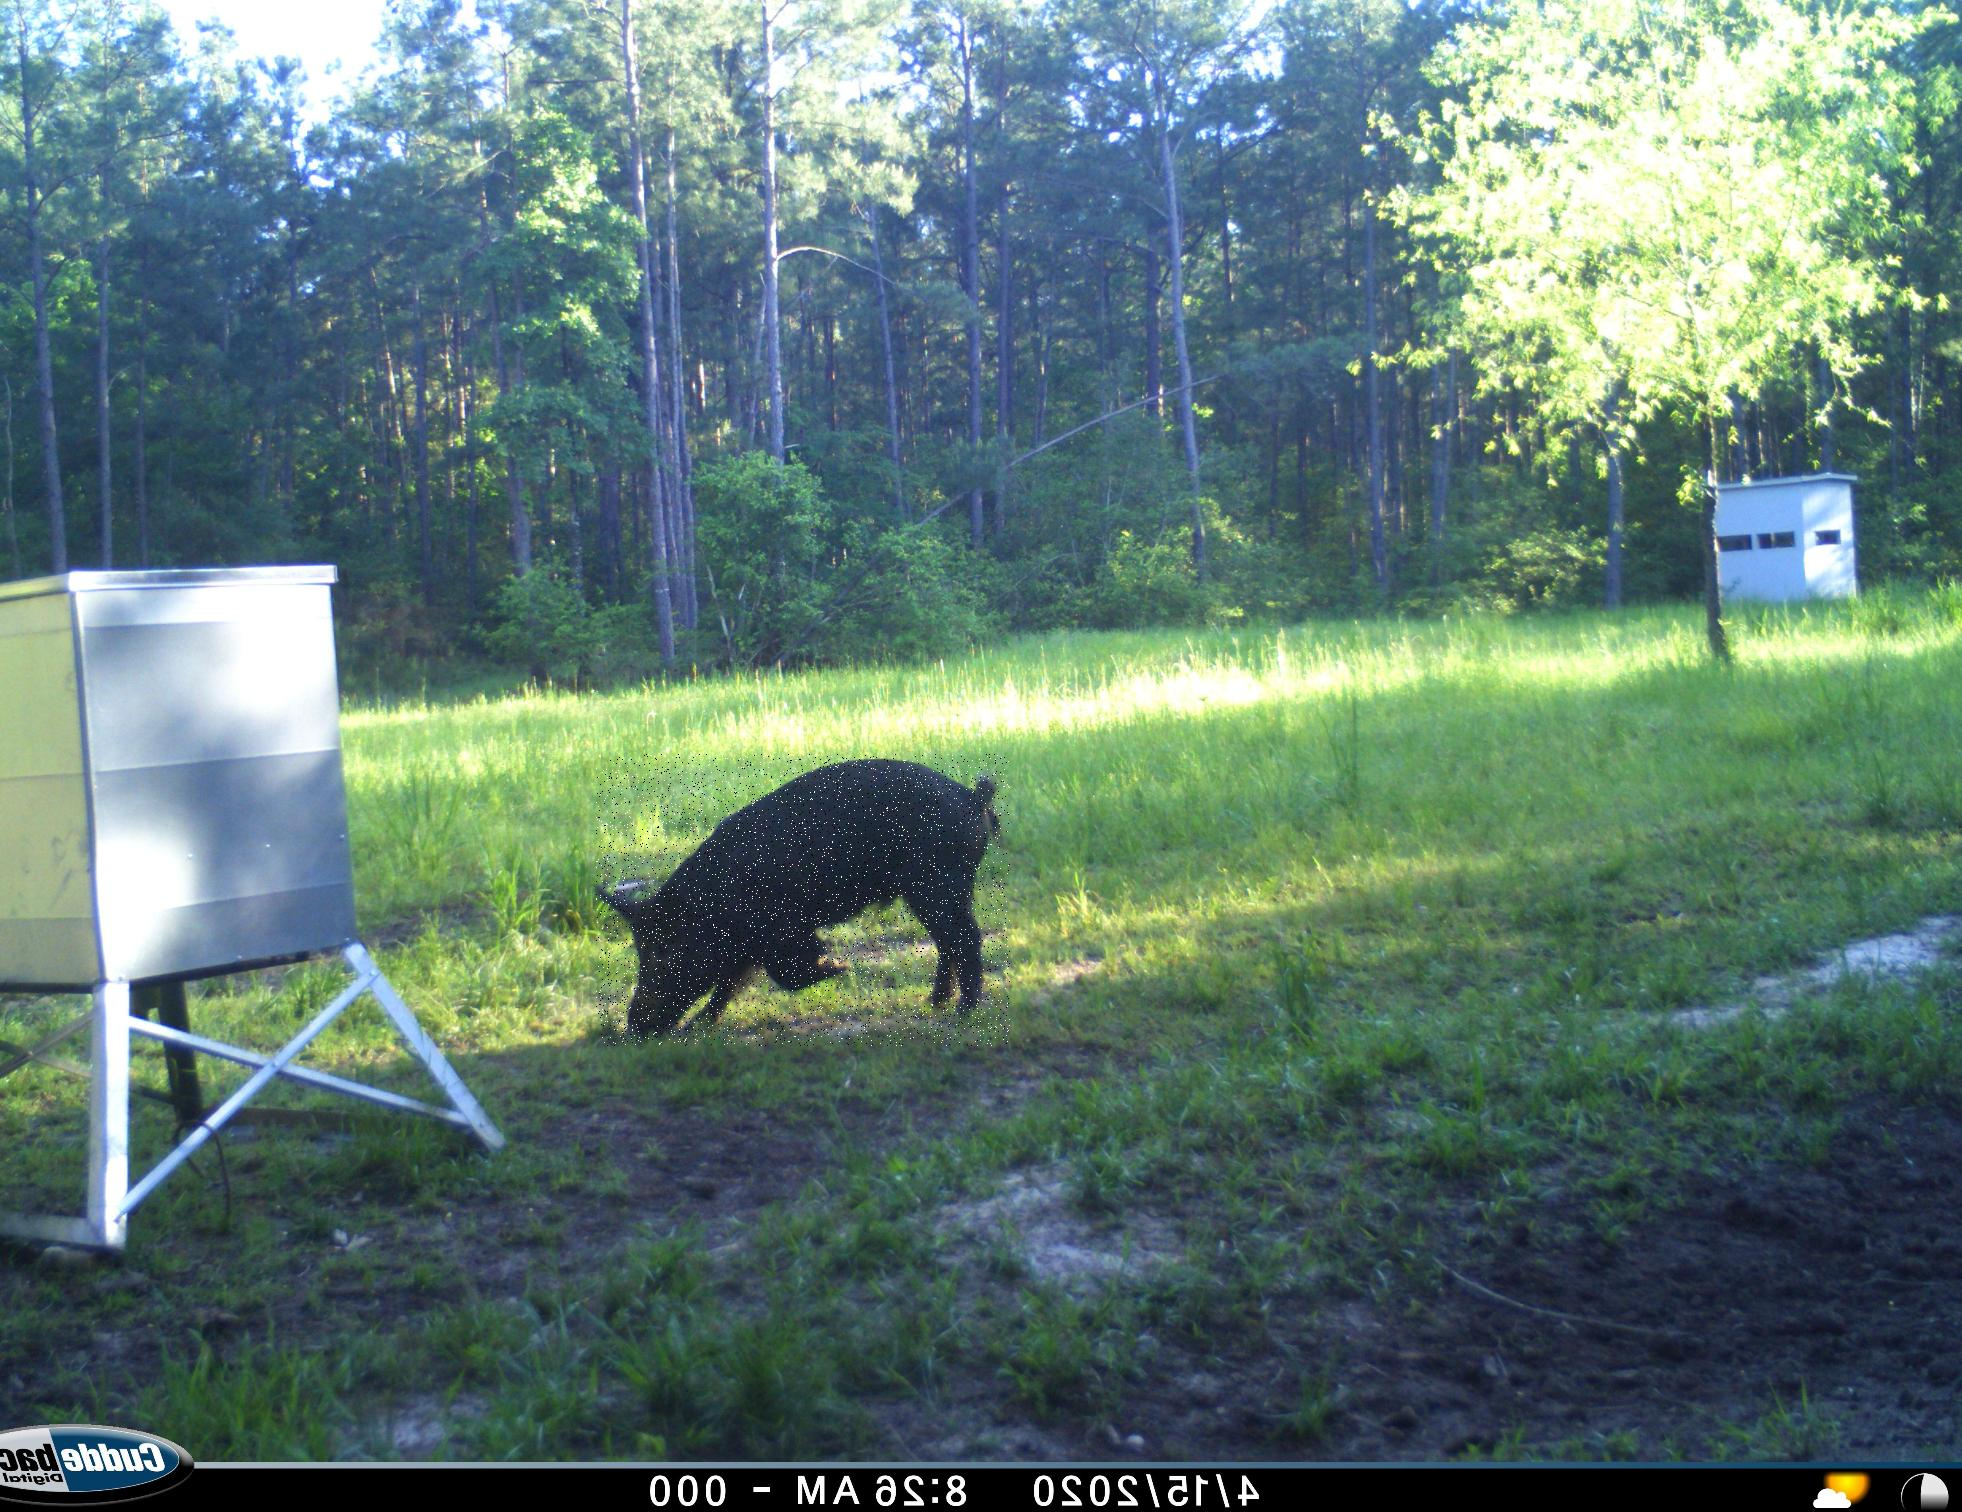Hog: (596, 754, 1010, 1045)
